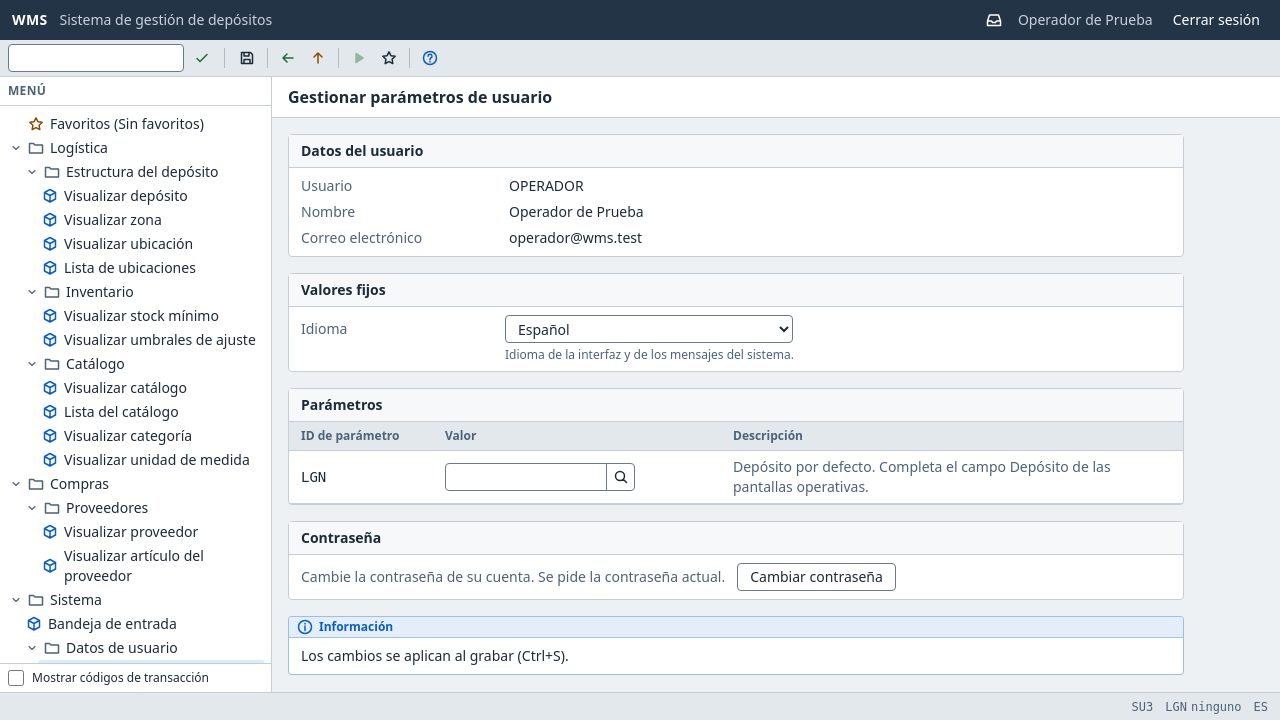
Test: armazón: aviso de datos sin grabar › el campo de comando también pasa por la confirmación
In the field labelled "LGN": (526, 477) left=446, top=464, right=606, bottom=490, type "NOR"
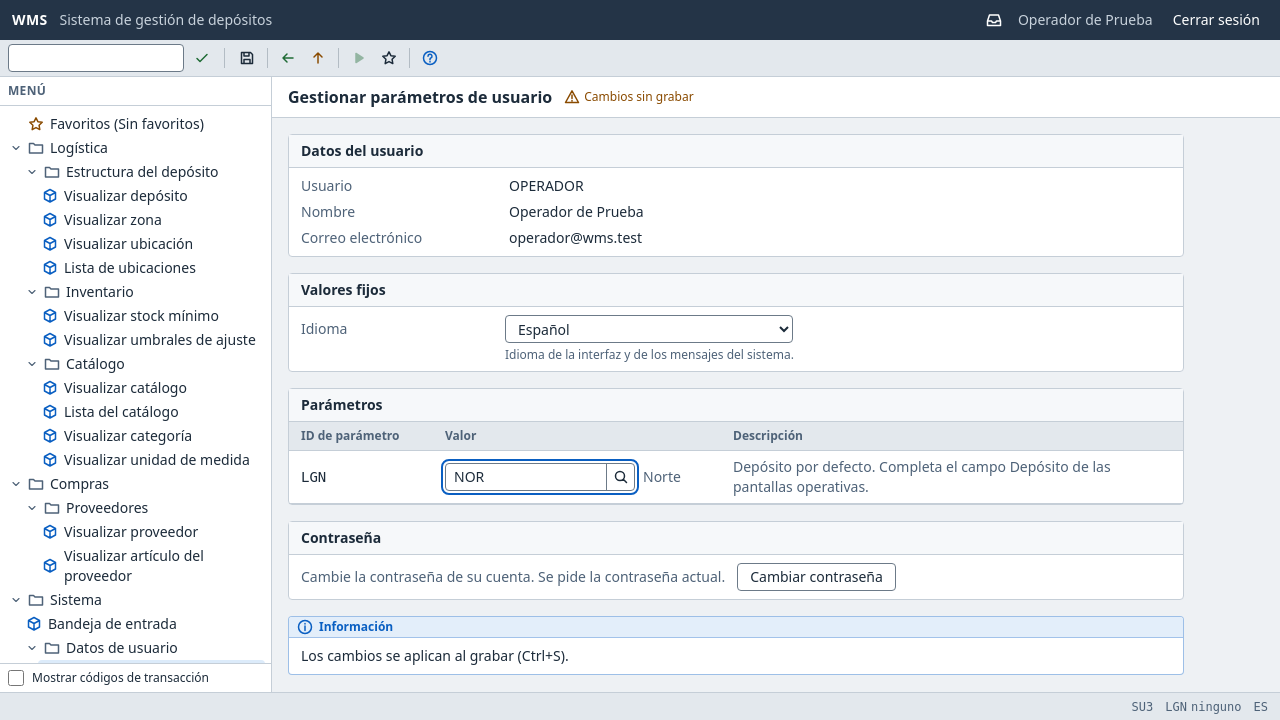
In the field named "Campo de comando": (96, 58) left=8, top=44, right=184, bottom=72, type "/n"
Then press Enter
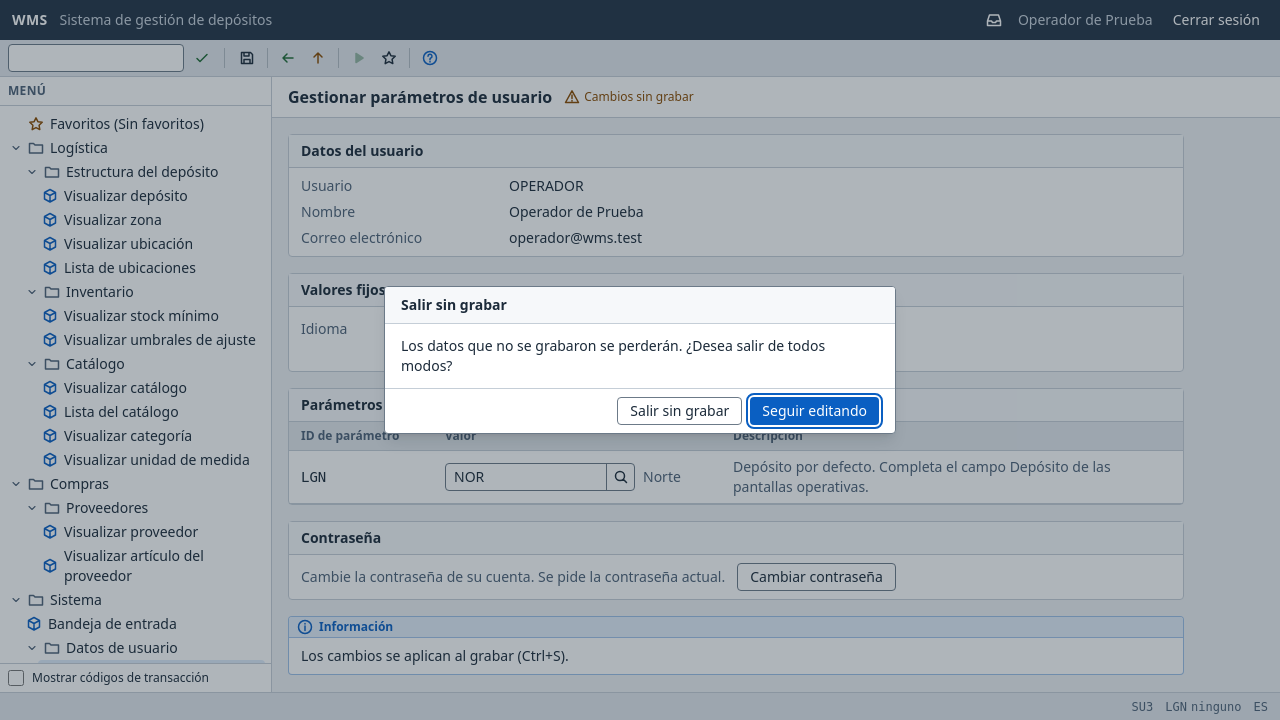
Check: the dialog "Salir sin grabar" is shown, box left=384, top=286, right=896, bottom=434
